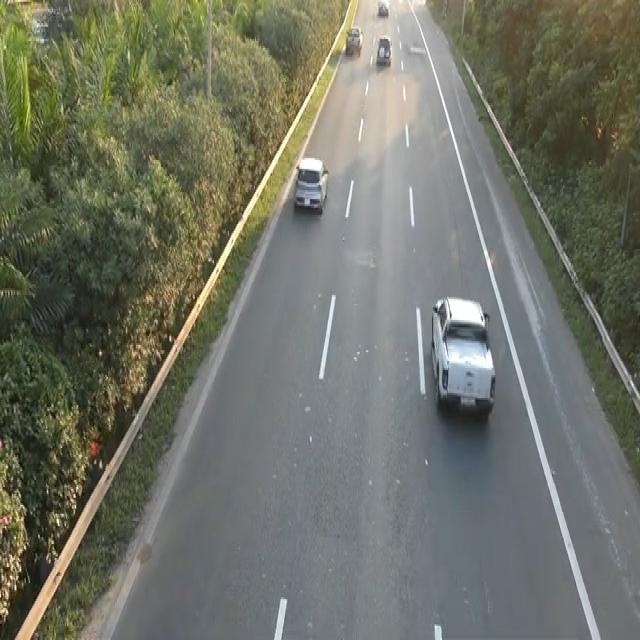bus: (293, 153, 329, 215)
car: (428, 292, 499, 423), (375, 34, 392, 66)
